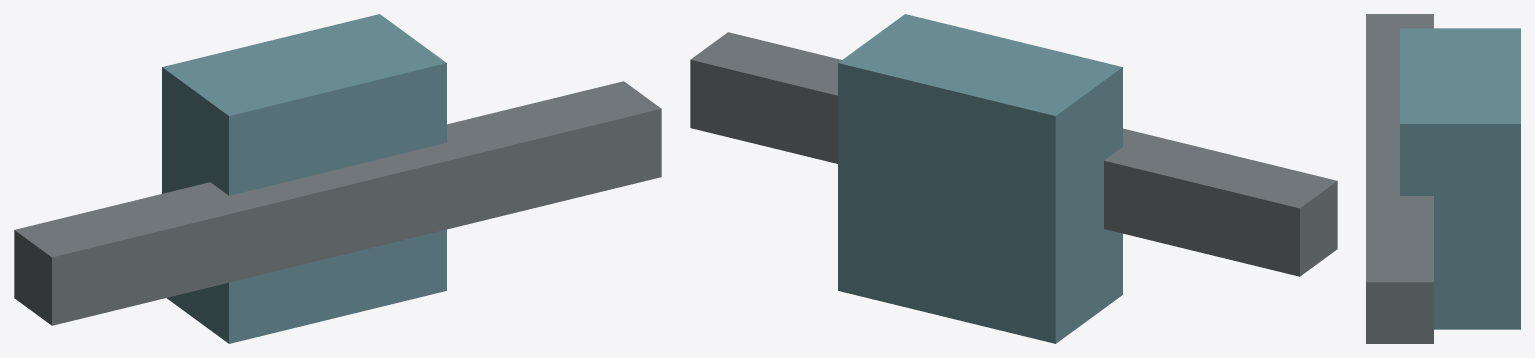
Rendered from water_meter_assembly.glb.
3 views of the same model, side by side, from view 1: azimuth 30°, elevation 25°; view 2: azimuth 150°, elevation 25°; view 3: azimuth 270°, elevation 25° (orthographic). The views are drawn at different scales.
Visible parts, largest first — view 1: body; view 2: body; view 3: body.
Boxes of the visible parts, bbox=[...] form: body: bbox=[14, 14, 661, 343]; body: bbox=[690, 14, 1337, 343]; body: bbox=[1366, 14, 1520, 343].
Bounding box in the file's own units: 0.42 × 0.15 × 0.1025.
